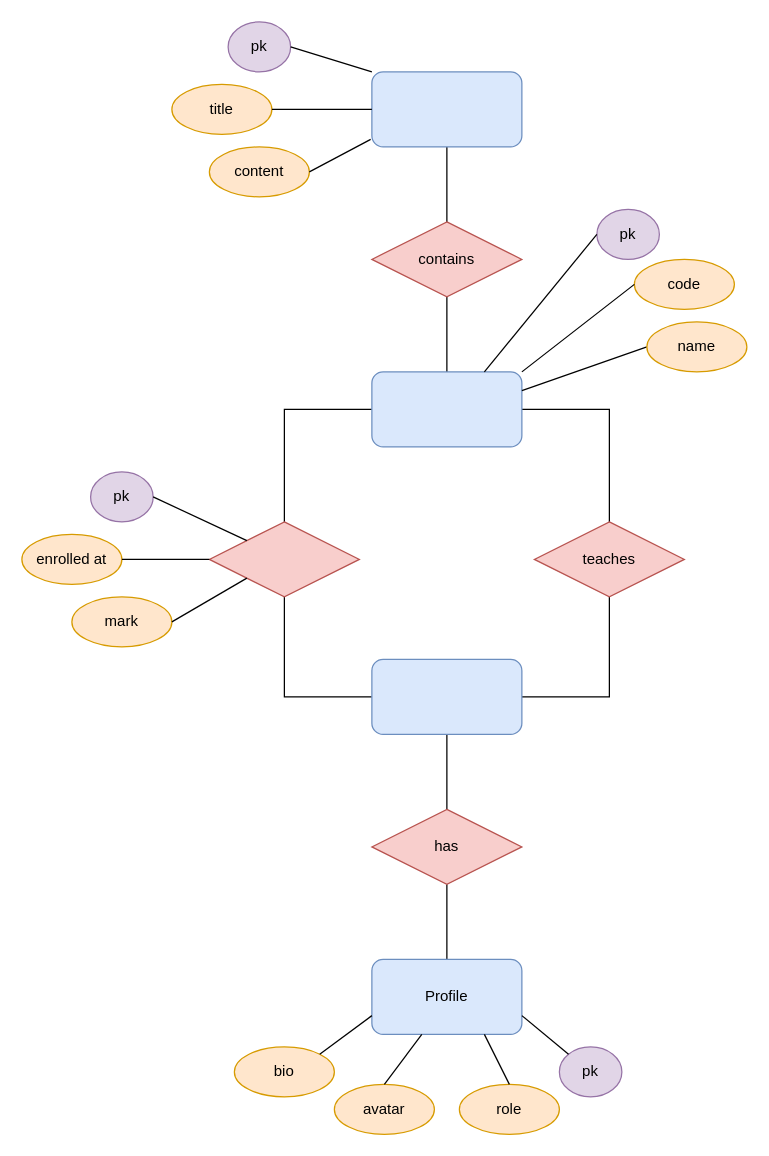
Image size: 769x1156. Some labels were removed from this diagram. Here are the shapes that lost their labels. From the top down, the centre of each, then its label:
(x=446, y=109): Lesson
(x=446, y=409): Subject
(x=283, y=559): enrolls
(x=446, y=696): User
